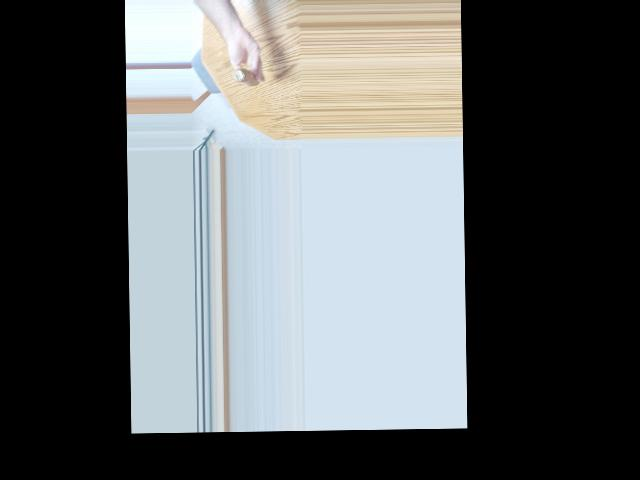sweet_potato: (229, 63, 260, 87)
